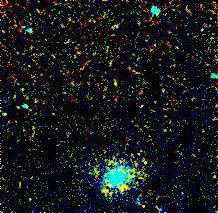star: (129, 146, 159, 176)
